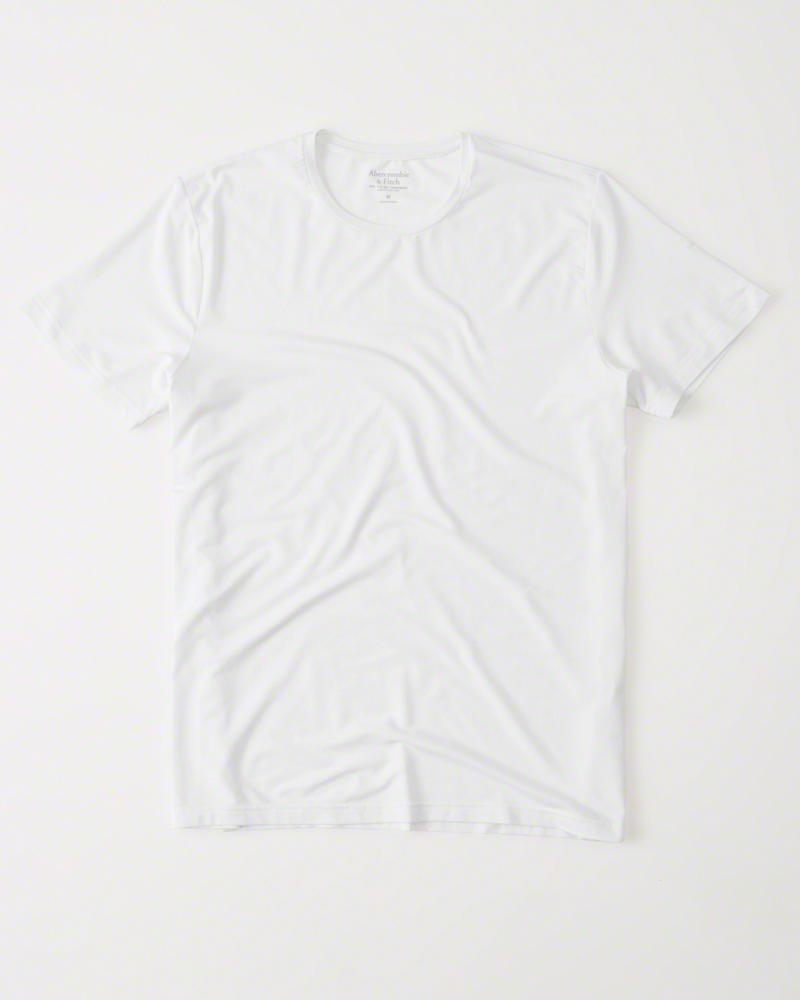teeshirt: (49, 118, 800, 873)
